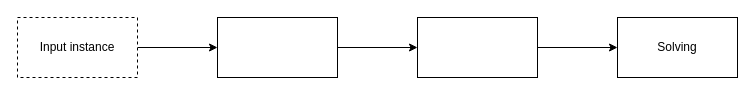
This 755x95 diagram has some shape labels left out. The centre of each missing label's shape, as x and y in pixels:
"Individual Path Finding" goes at [277,47].
"Path Selection" goes at [477,47].
